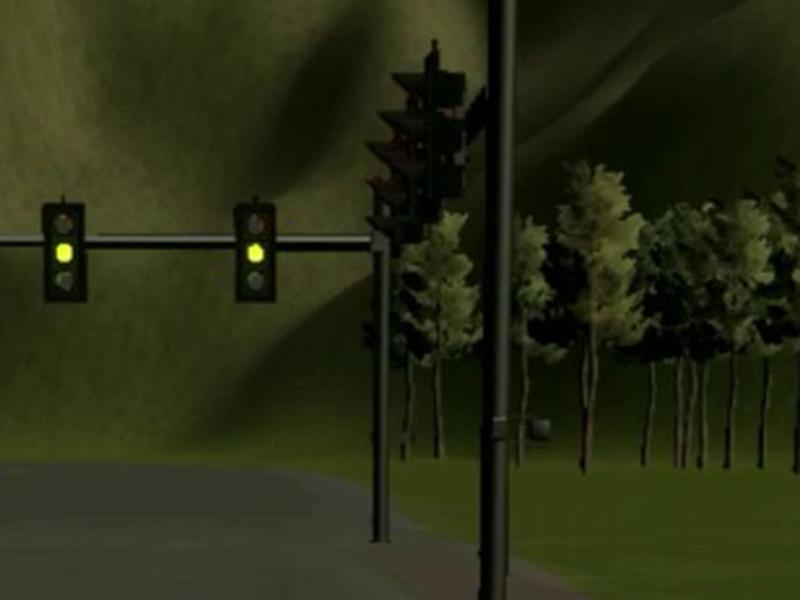Yellow: (41, 203, 89, 302), (234, 202, 276, 301)
